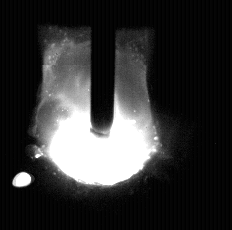arame: (91, 0, 115, 139)
poca: (48, 0, 157, 230)
